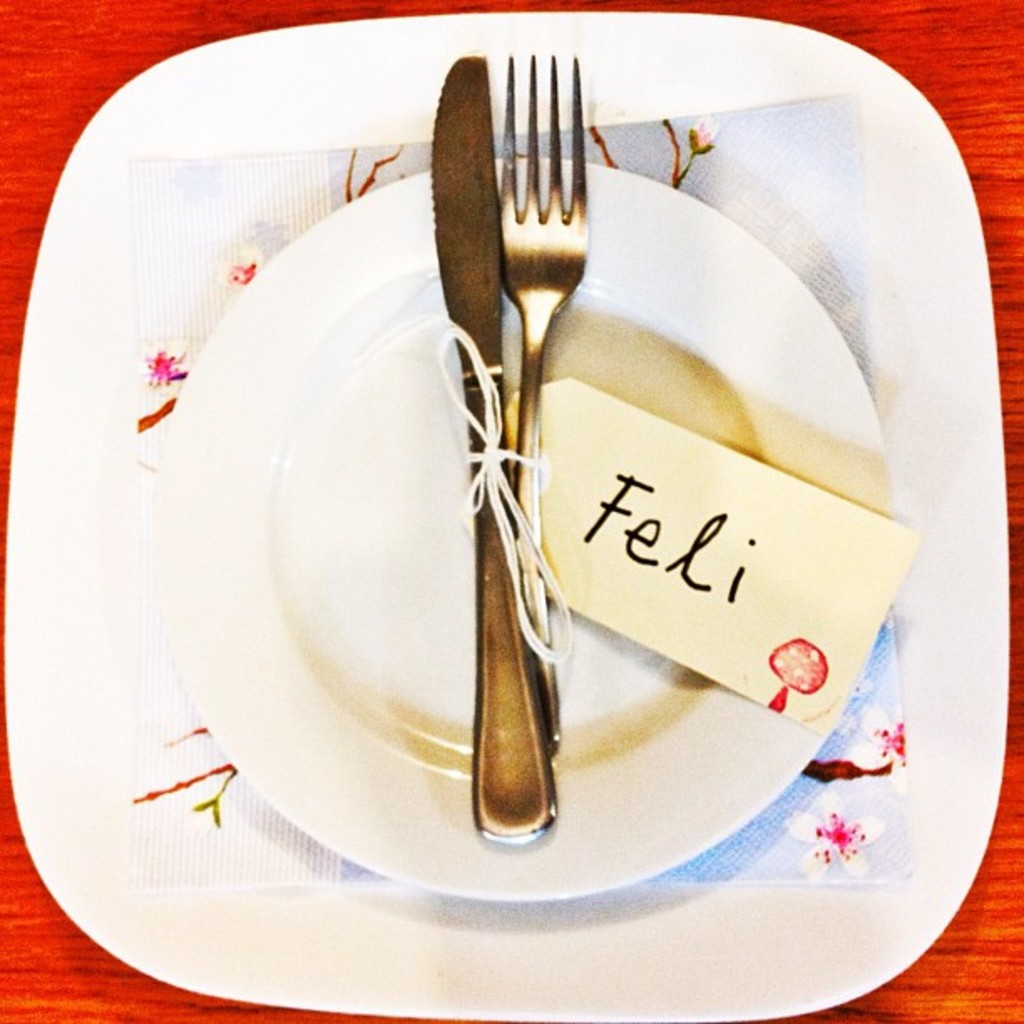fork: (498, 53, 588, 757)
